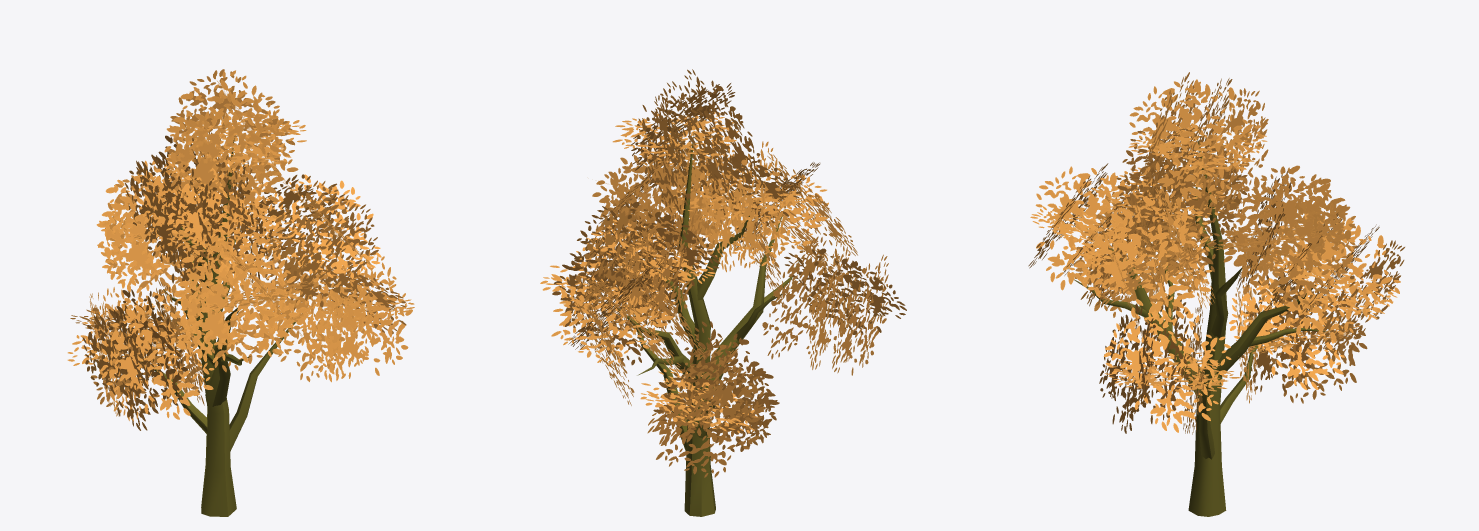
The model's file is anime_tree_2.glb.
3 renders of one model, left to right at view 1: azimuth 30°, elevation 25°; view 2: azimuth 150°, elevation 25°; view 3: azimuth 270°, elevation 25°, orthographic. The views are drawn at different scales.
Parts seen in each view (by area): view 1: Object_2; view 2: Object_2; view 3: Object_2.
Boxes of the visible parts, bbox=[...] form: Object_2: bbox=[67, 69, 414, 516]; Object_2: bbox=[540, 69, 906, 516]; Object_2: bbox=[1028, 72, 1404, 516].
Size of the model in its own units: 2.58 by 2.89 by 2.64.
1 material, 1 textured.
